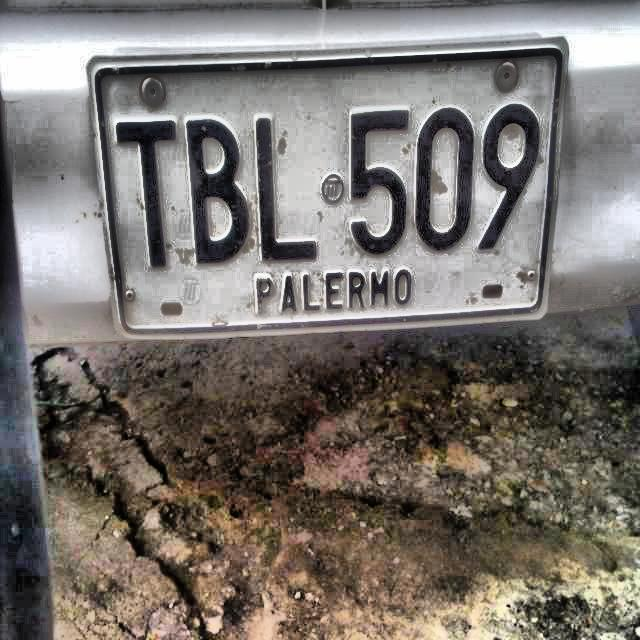plate: (96, 49, 561, 330)
